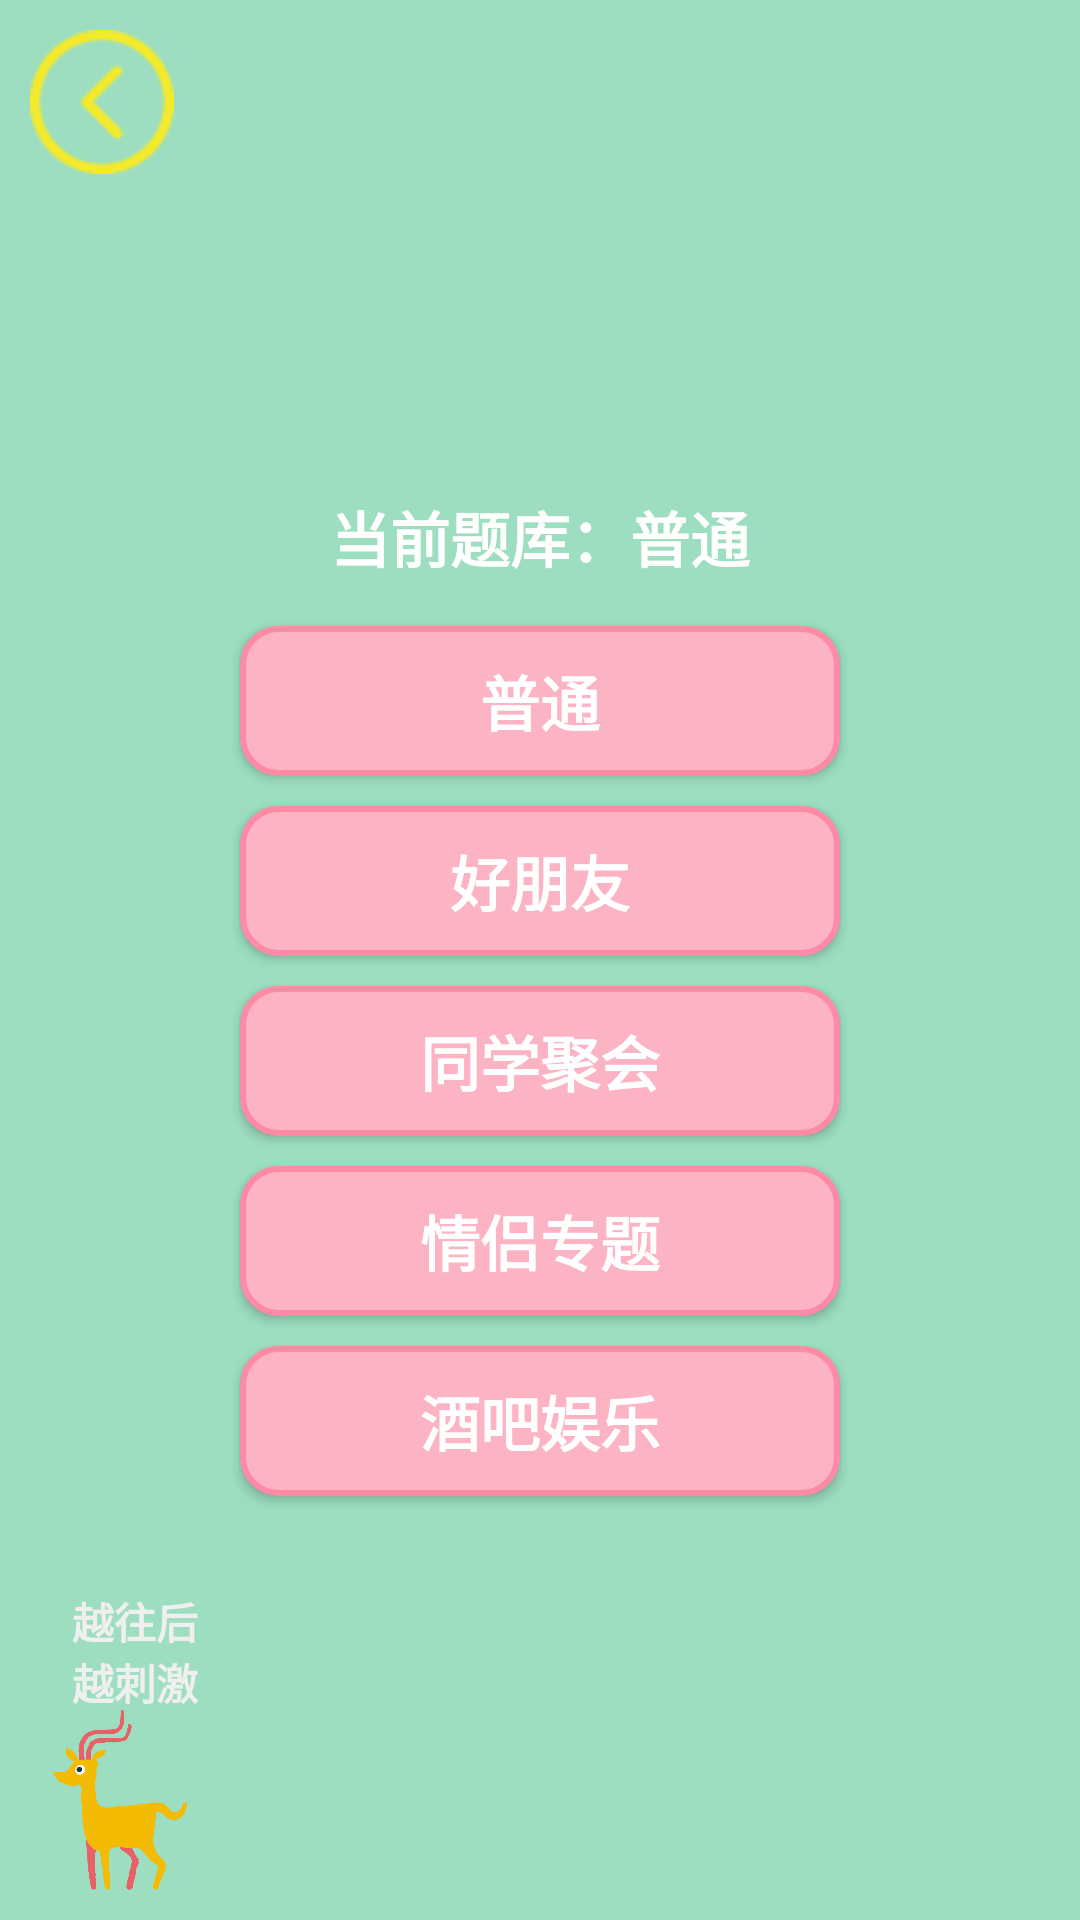

Icons on this 1080*1920 Android screen, each with the point to tap as (x=x, y=y):
back: (x=102, y=102)
